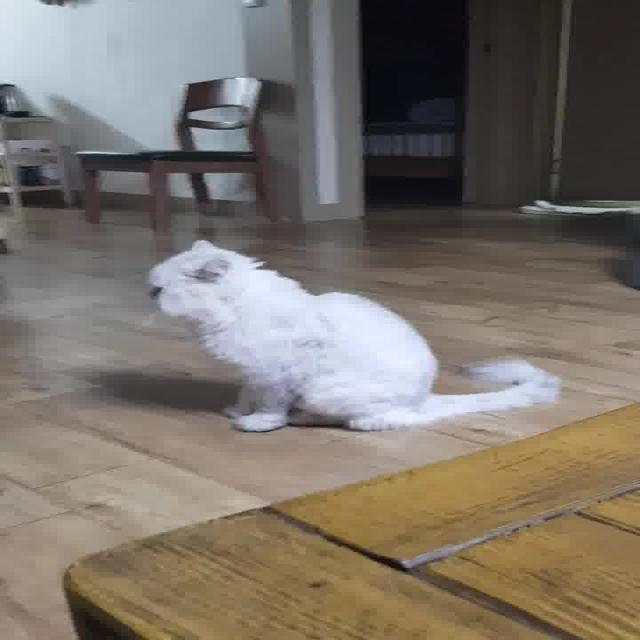cat: (90, 226, 631, 442)
